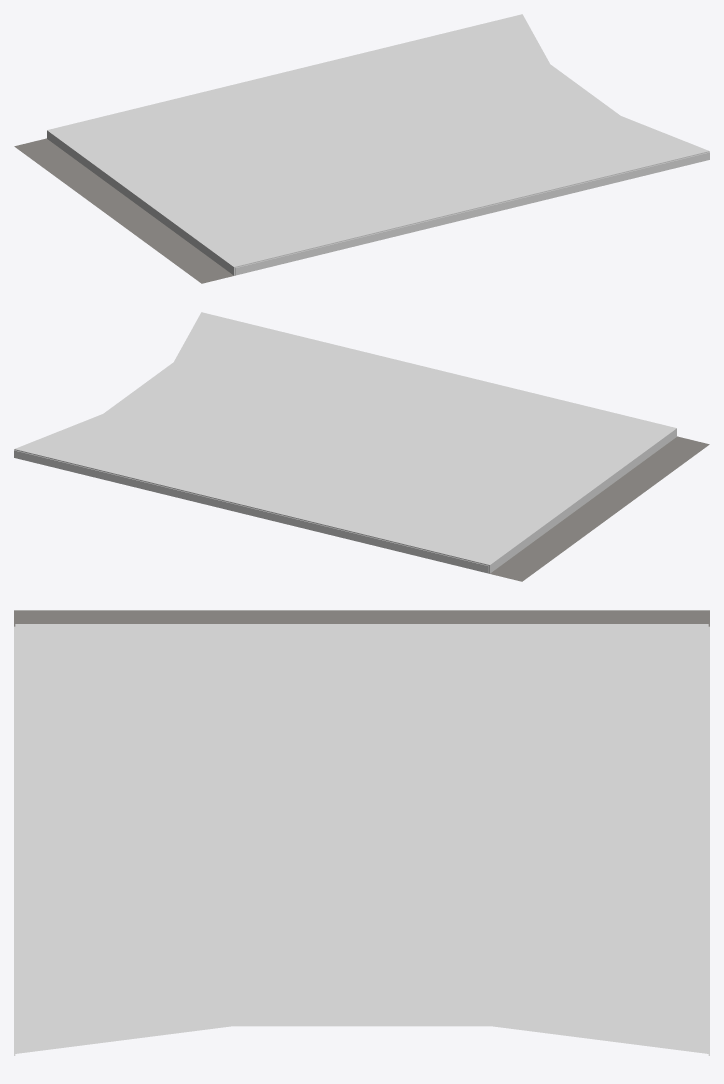
Rendered from MMo_C_001_a_22x16.fbx.
The picture shows the model from 3 angles, top to bottom: view 1: azimuth 30°, elevation 25°; view 2: azimuth 150°, elevation 25°; view 3: azimuth 270°, elevation 25°; orthographic projection. The views are drawn at different scales.
Visible parts, largest first — view 1: MMo_C_001_a_22x16; view 2: MMo_C_001_a_22x16; view 3: MMo_C_001_a_22x16.
Part boxes in pixels (box(x1,y1,x2,y2)): MMo_C_001_a_22x16: box(14, 14, 709, 283); MMo_C_001_a_22x16: box(14, 312, 709, 581); MMo_C_001_a_22x16: box(14, 610, 709, 1055).
Bounding box in the file's own units: 25 × 0.4 × 16.
